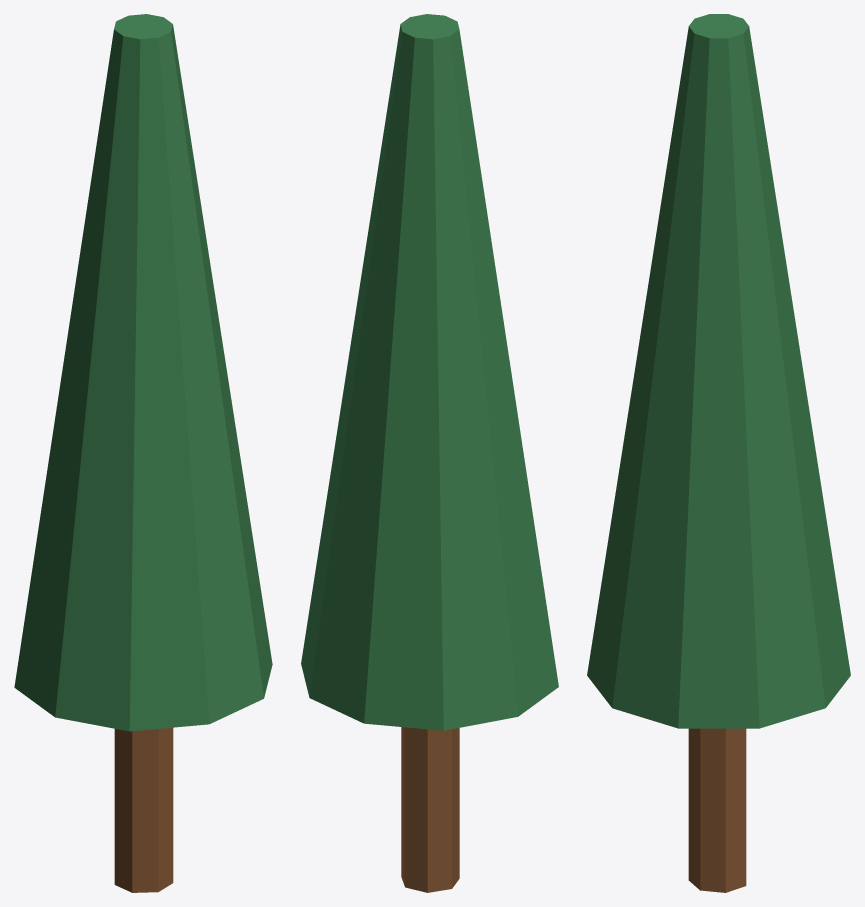
Rendered from tree_columnar.glb.
The picture shows the model from 3 angles, left to right: view 1: azimuth 30°, elevation 25°; view 2: azimuth 150°, elevation 25°; view 3: azimuth 270°, elevation 25°; orthographic projection.
Parts seen in each view (by area): view 1: rough; view 2: rough; view 3: rough.
Boxes of the visible parts, box(x1,y1,x2,y2) form: rough: box(14, 14, 272, 892); rough: box(301, 14, 558, 892); rough: box(587, 14, 850, 892).
Bounding box in the file's own units: 1.33 × 5 × 1.4.
